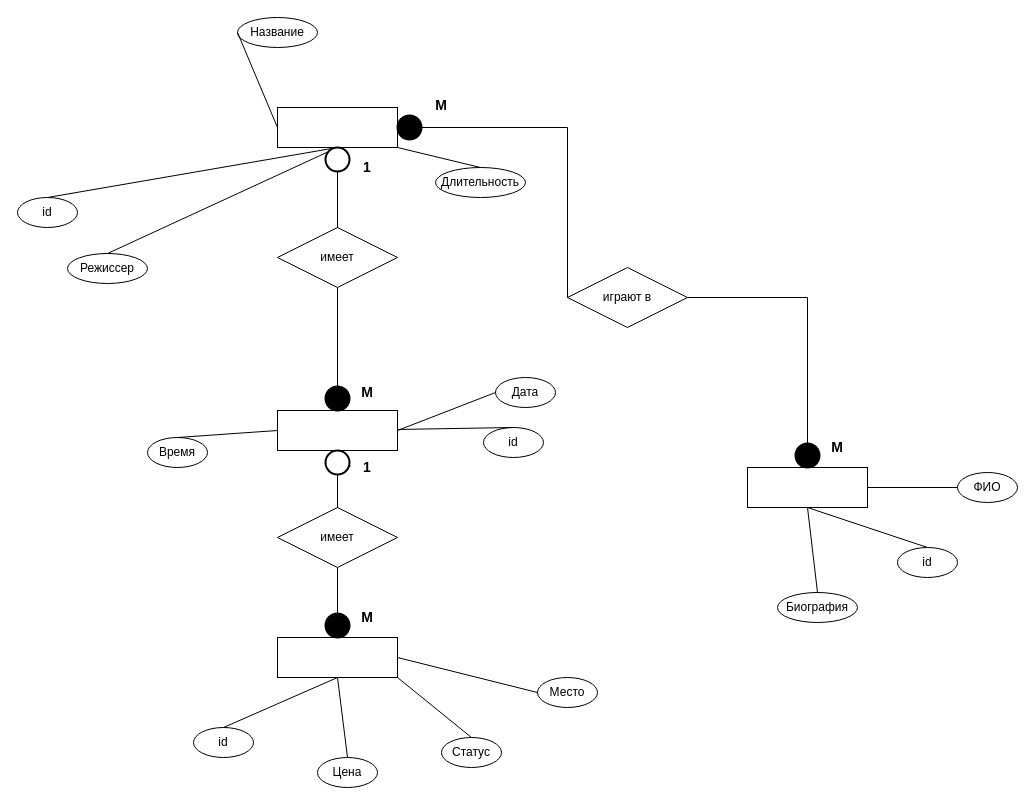
Some shapes in this 1035 by 805 pixel diagram are drawn without their labels. Here are the shapes that lost their labels. From the top down, the box of each, then its label:
(276, 106, 398, 148): Спектакли
(276, 410, 398, 450): Показы
(746, 466, 868, 508): Актёры
(276, 636, 398, 678): Билеты
